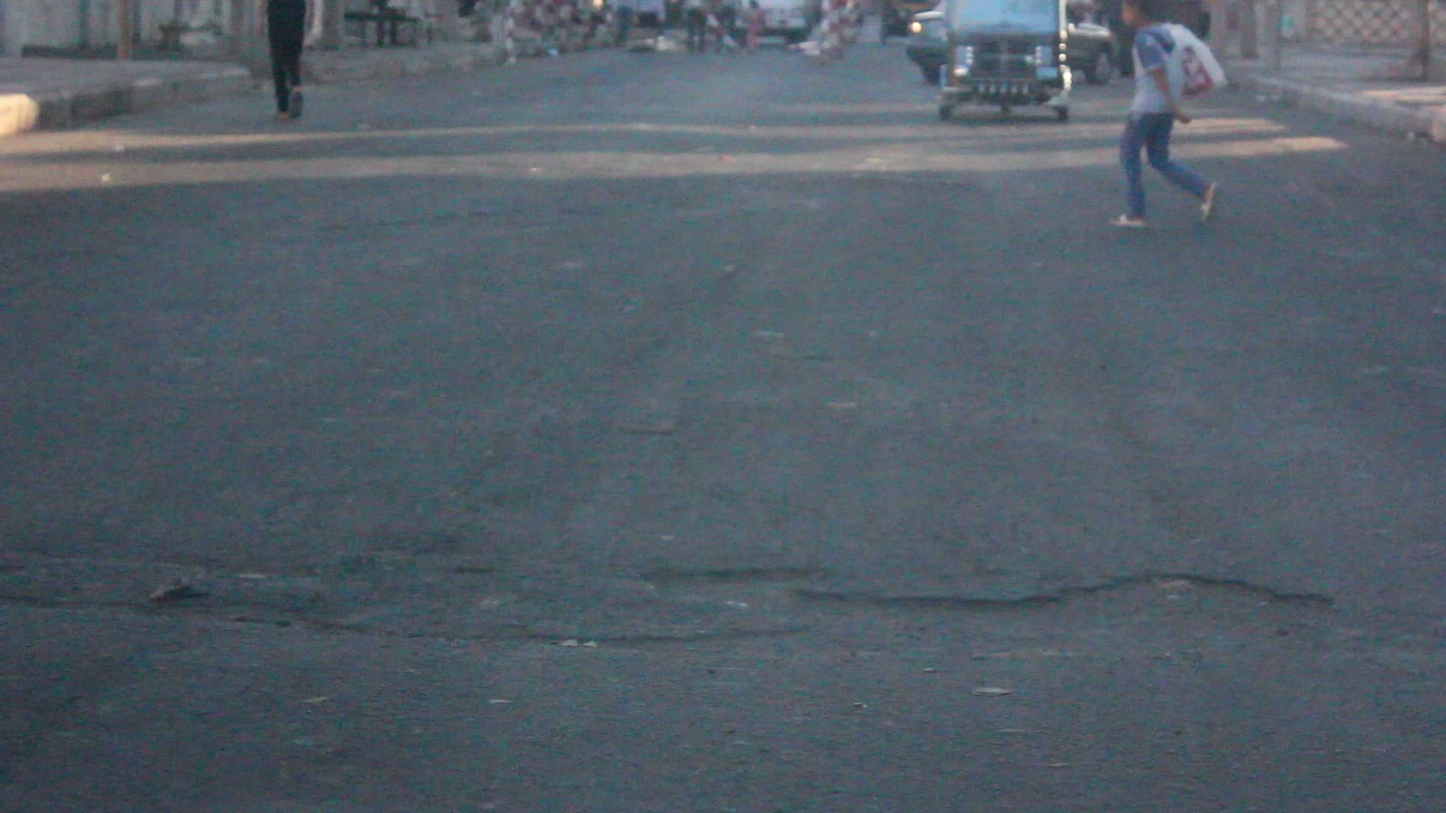Pothole: (147, 543, 1360, 656)
